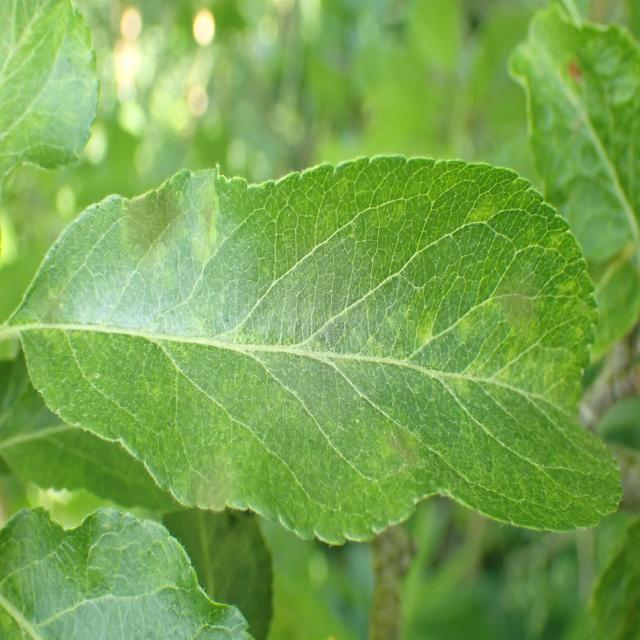scab: (11, 176, 600, 514)
